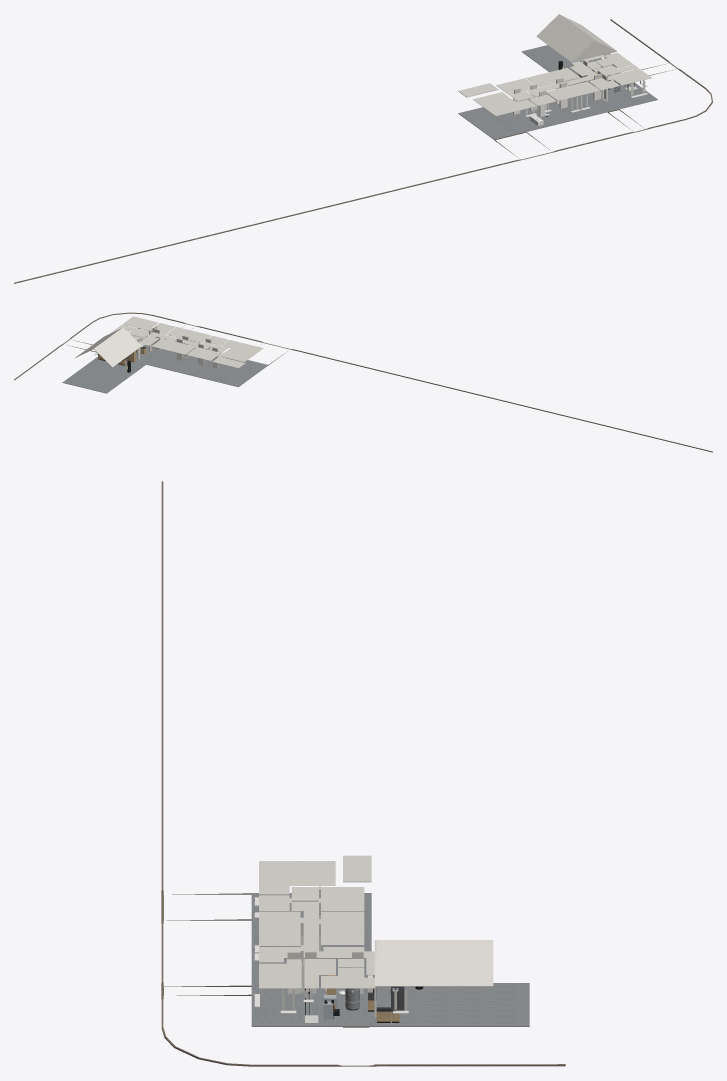
Rendered from dom-interior-01.glb.
3 renders of one model, top to bottom at view 1: azimuth 30°, elevation 25°; view 2: azimuth 150°, elevation 25°; view 3: azimuth 270°, elevation 25°, orthographic. The views are drawn at different scales.
Parts seen in each view (by area): view 1: DOM_00403 | Podkladová doska 1.NP 1, DOM_00432 | 1.03 · šikmý SDK podhľad západ · +2,750 → +4,850, DOM_00048 | Obrubník pri čelnej vozovke · prerušený pre gará, DOM_00404 | Podkladová doska 1.NP 2, DOM_00462 | 1.12 Garáž · SDK podhľad +2.600, DOM_00454 | 1.08 Dievčenská izba · ulica · SDK podhľad +2.60, DOM_00456 | 1.09 Chlapčenská izba · dvor · SDK podhľad +2.60; view 2: DOM_00403 | Podkladová doska 1.NP 1, DOM_00404 | Podkladová doska 1.NP 2, DOM_00432 | 1.03 · šikmý SDK podhľad západ · +2,750 → +4,850, DOM_00048 | Obrubník pri čelnej vozovke · prerušený pre gará, DOM_00462 | 1.12 Garáž · SDK podhľad +2.600, DOM_00456 | 1.09 Chlapčenská izba · dvor · SDK podhľad +2.60, DOM_00454 | 1.08 Dievčenská izba · ulica · SDK podhľad +2.60, DOM_00458 | 1.10 Spálňa do dvora · SDK podhľad +2.600; view 3: DOM_00404 | Podkladová doska 1.NP 2, DOM_00433 | 1.03 · šikmý SDK podhľad východ · +2,750 → +4,85, DOM_00403 | Podkladová doska 1.NP 1, DOM_00462 | 1.12 Garáž · SDK podhľad +2.600, DOM_00456 | 1.09 Chlapčenská izba · dvor · SDK podhľad +2.60, DOM_00454 | 1.08 Dievčenská izba · ulica · SDK podhľad +2.60, DOM_00048 | Obrubník pri čelnej vozovke · prerušený pre gará, DOM_00051 | Obrubník rohovej vetvy · prerušený pri bočnej br, DOM_00458 | 1.10 Spálňa do dvora · SDK podhľad +2.600.
Boxes of the visible parts, bbox=[...] form: DOM_00403 | Podkladová doska 1.NP 1: bbox=[458, 81, 657, 139]; DOM_00432 | 1.03 · šikmý SDK podhľad západ · +2,750 → +4,850: bbox=[536, 14, 593, 61]; DOM_00048 | Obrubník pri čelnej vozovke · prerušený pre gará: bbox=[14, 119, 686, 283]; DOM_00404 | Podkladová doska 1.NP 2: bbox=[521, 45, 616, 85]; DOM_00462 | 1.12 Garáž · SDK podhľad +2.600: bbox=[473, 92, 524, 116]; DOM_00454 | 1.08 Dievčenská izba · ulica · SDK podhľad +2.60: bbox=[546, 81, 599, 100]; DOM_00456 | 1.09 Chlapčenská izba · dvor · SDK podhľad +2.60: bbox=[526, 68, 579, 87]; DOM_00403 | Podkladová doska 1.NP 1: bbox=[135, 335, 268, 386]; DOM_00404 | Podkladová doska 1.NP 2: bbox=[62, 357, 145, 393]; DOM_00432 | 1.03 · šikmý SDK podhľad západ · +2,750 → +4,850: bbox=[94, 328, 141, 367]; DOM_00048 | Obrubník pri čelnej vozovke · prerušený pre gará: bbox=[153, 315, 712, 452]; DOM_00462 | 1.12 Garáž · SDK podhľad +2.600: bbox=[220, 342, 263, 362]; DOM_00456 | 1.09 Chlapčenská izba · dvor · SDK podhľad +2.60: bbox=[151, 338, 195, 354]; DOM_00454 | 1.08 Dievčenská izba · ulica · SDK podhľad +2.60: bbox=[166, 327, 211, 342]; DOM_00458 | 1.10 Spálňa do dvora · SDK podhľad +2.600: bbox=[186, 347, 221, 360]; DOM_00404 | Podkladová doska 1.NP 2: bbox=[371, 983, 529, 1026]; DOM_00433 | 1.03 · šikmý SDK podhľad východ · +2,750 → +4,85: bbox=[376, 940, 493, 986]; DOM_00403 | Podkladová doska 1.NP 1: bbox=[251, 893, 371, 1026]; DOM_00462 | 1.12 Garáž · SDK podhľad +2.600: bbox=[259, 861, 335, 885]; DOM_00456 | 1.09 Chlapčenská izba · dvor · SDK podhľad +2.60: bbox=[321, 911, 364, 945]; DOM_00454 | 1.08 Dievčenská izba · ulica · SDK podhľad +2.60: bbox=[259, 911, 300, 946]; DOM_00048 | Obrubník pri čelnej vozovke · prerušený pre gará: bbox=[161, 481, 163, 1027]; DOM_00051 | Obrubník rohovej vetvy · prerušený pri bočnej br: bbox=[161, 1027, 565, 1066]; DOM_00458 | 1.10 Spálňa do dvora · SDK podhľad +2.600: bbox=[321, 887, 364, 911].
Size of the model in its own units: 94.62 by 5.01 by 27.69.
30 materials, 10 textured.
